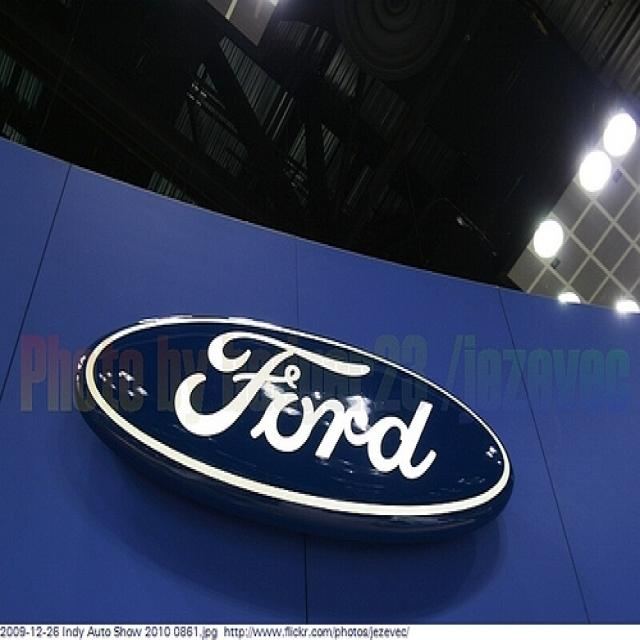ford: (75, 317, 513, 540)
